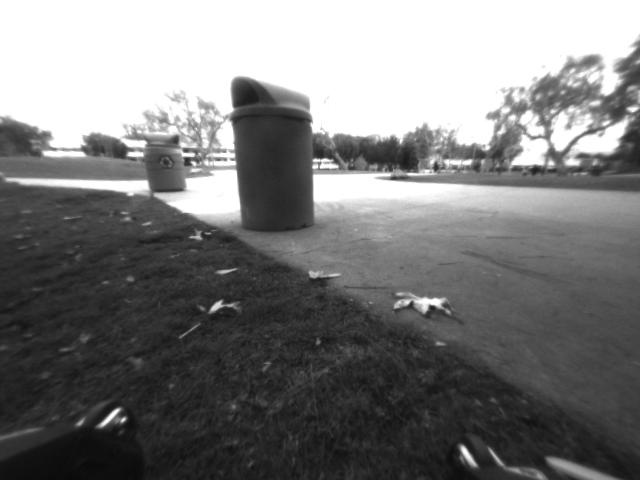trashcan: (223, 66, 328, 237)
